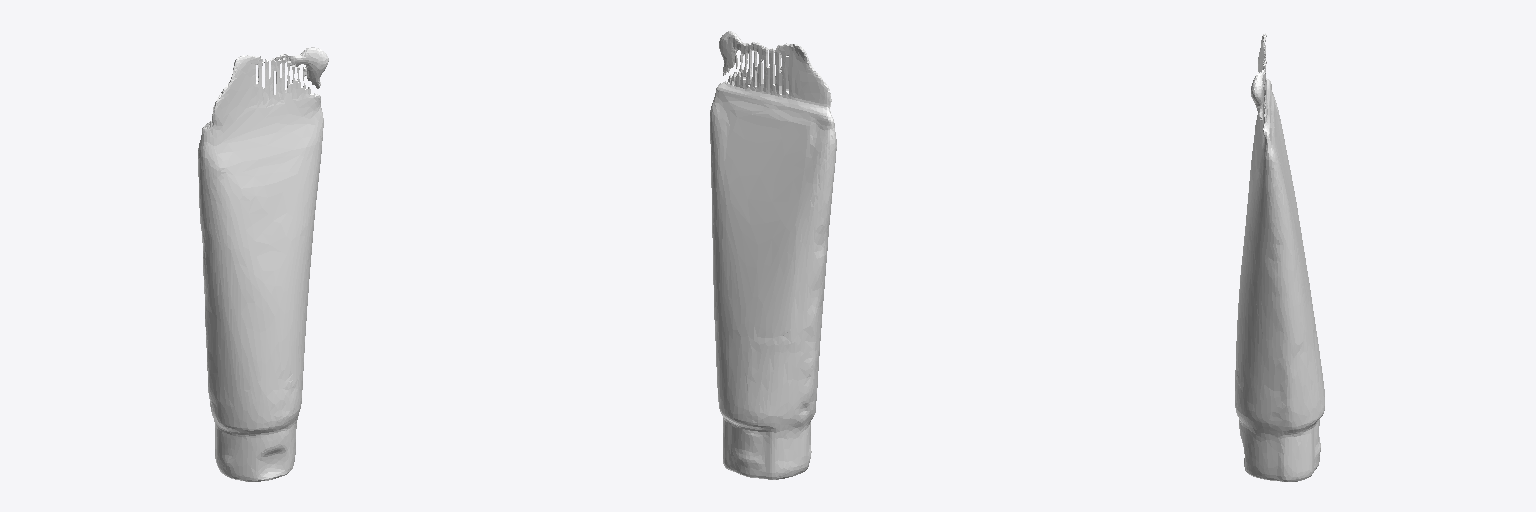
File: labo.obj
The picture shows the model from 3 angles: view 1: azimuth 30°, elevation 25°; view 2: azimuth 150°, elevation 25°; view 3: azimuth 270°, elevation 25°; orthographic projection.
Visible parts, largest first — view 1: labo; view 2: labo; view 3: labo.
Part boxes in pixels (bbox=[...]): labo: bbox=[198, 47, 328, 481]; labo: bbox=[710, 31, 836, 479]; labo: bbox=[1235, 33, 1324, 481].
Bounding box in the file's own units: 59.35 × 193 × 37.56.